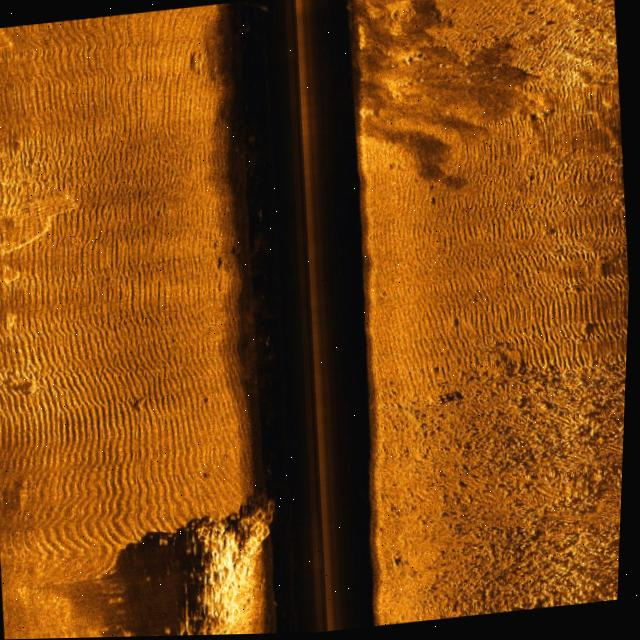artificial reef: (150, 478, 295, 637)
